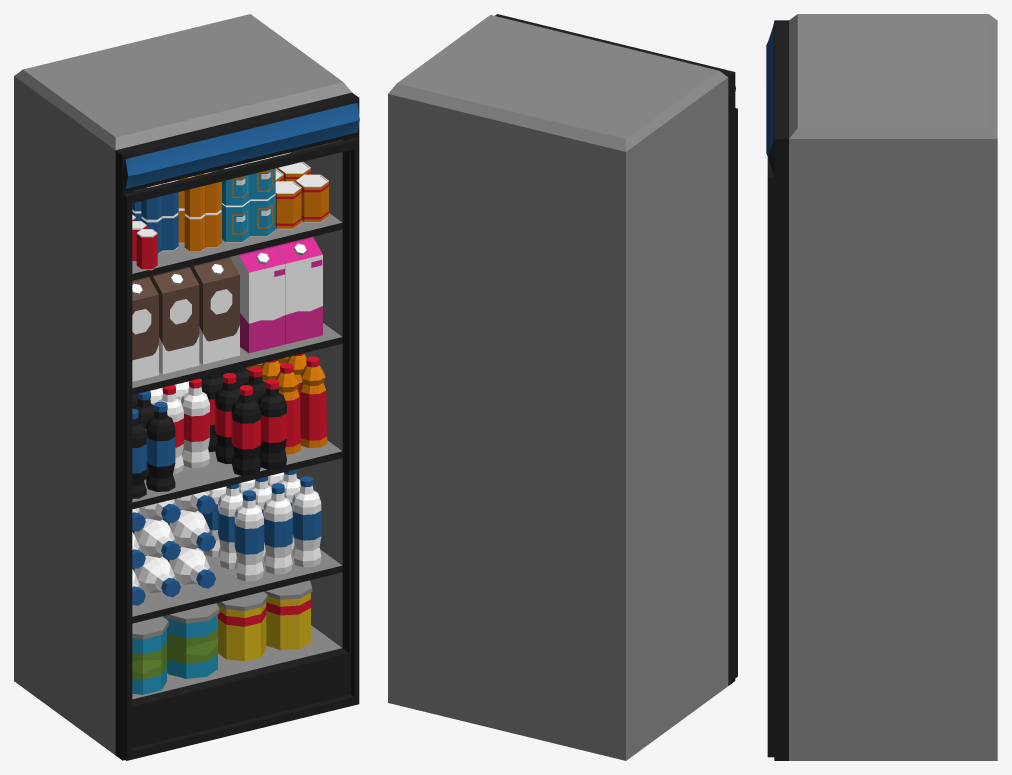
File: SM_fridge_02.fbx
3 views of the same model, side by side, from view 1: azimuth 30°, elevation 25°; view 2: azimuth 150°, elevation 25°; view 3: azimuth 270°, elevation 25° (orthographic). The views are drawn at different scales.
Visible parts, largest first — view 1: SM_fridge_02; view 2: SM_fridge_02; view 3: SM_fridge_02.
Boxes of the visible parts, x1,y1,x2,y2 form: SM_fridge_02: (14, 14, 359, 760); SM_fridge_02: (388, 14, 737, 760); SM_fridge_02: (766, 14, 997, 760).
Size of the model in its own units: 100 by 248 by 82.29.
